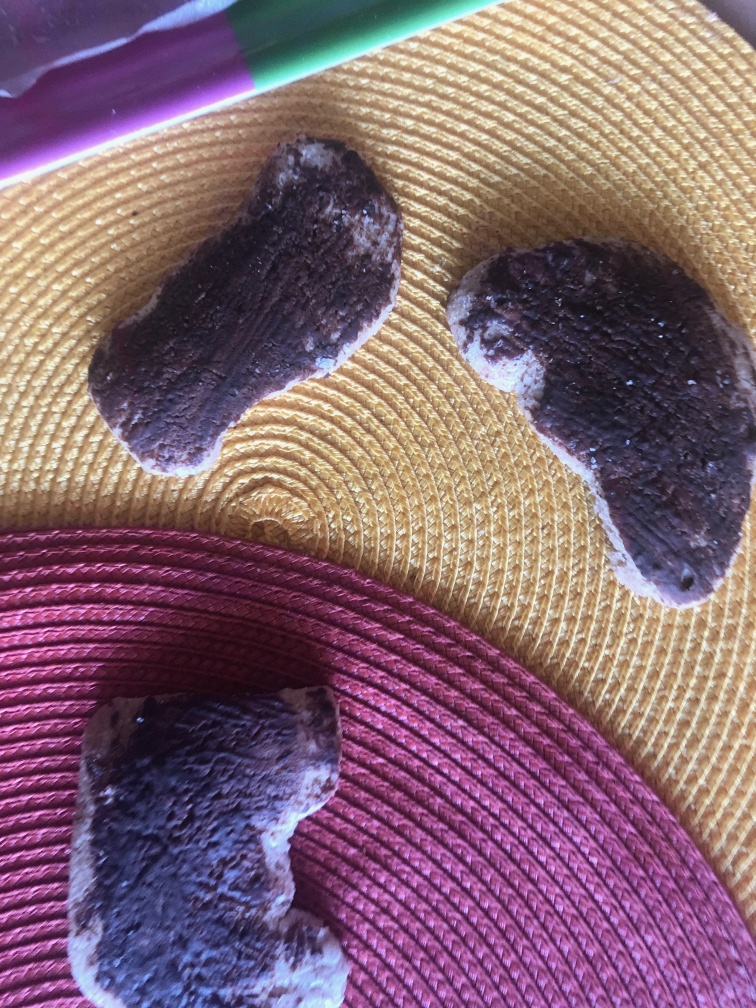weird #1: (79, 133, 407, 480), (448, 237, 756, 605), (71, 673, 357, 1008)
